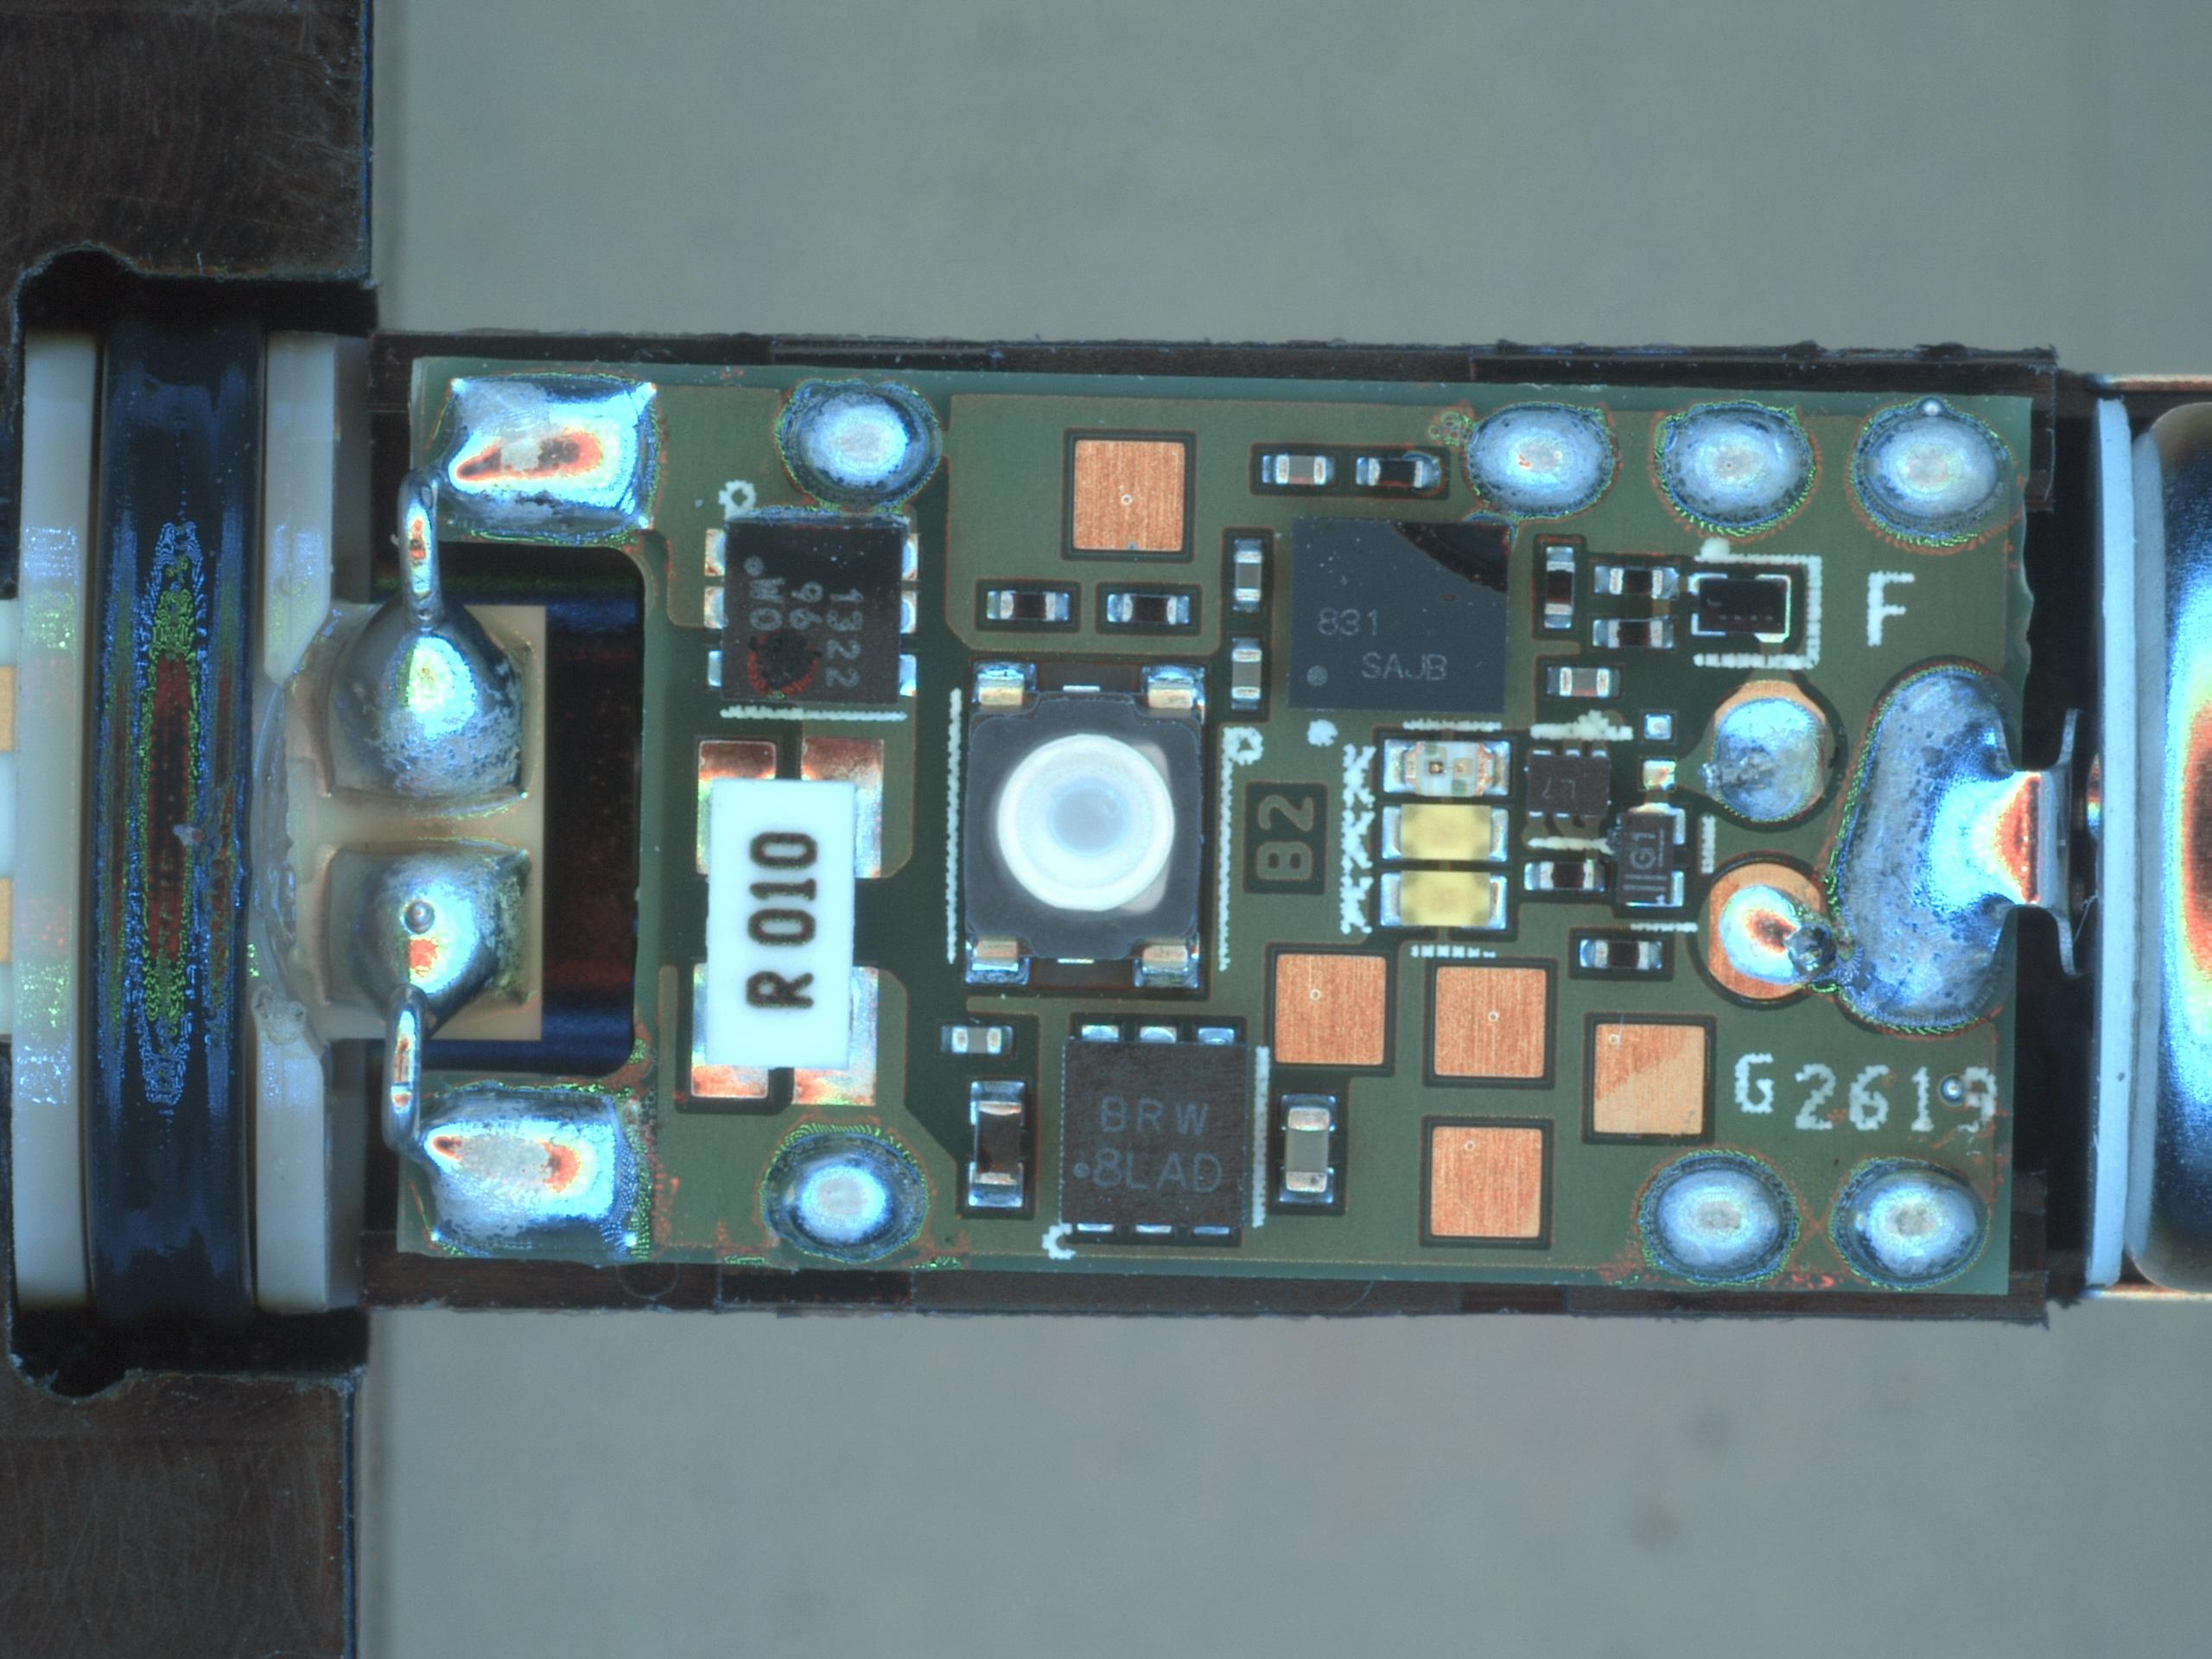short: (1714, 852, 1858, 1012)
solderball: (1919, 396, 1944, 418), (1944, 1075, 1965, 1101)
